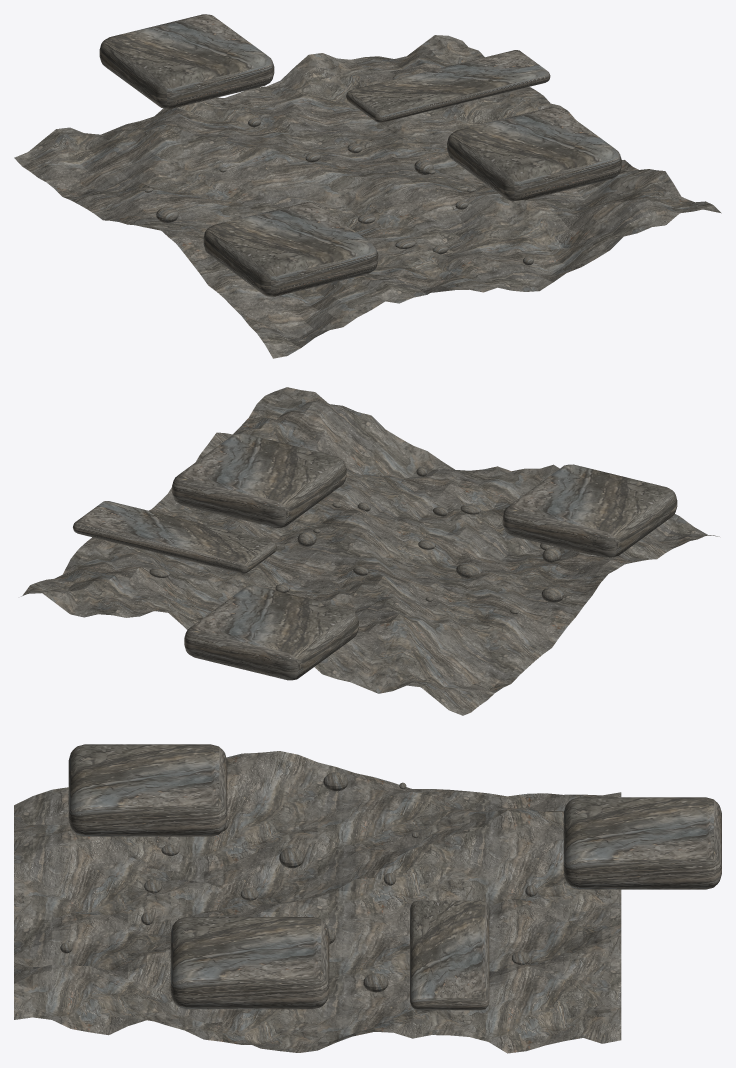
The model's file is terrain_chunk.glb.
3 renders of one model, top to bottom at view 1: azimuth 30°, elevation 25°; view 2: azimuth 150°, elevation 25°; view 3: azimuth 270°, elevation 25°, orthographic. The views are drawn at different scales.
Parts seen in each view (by area): view 1: TerrainMass, TerrainBlob2, TerrainBlob1, TerrainBlob0, TerrainScar; view 2: TerrainMass, TerrainBlob2, TerrainBlob0, TerrainBlob1, TerrainScar; view 3: TerrainMass, TerrainBlob1, TerrainBlob0, TerrainBlob2, TerrainScar.
Boxes of the visible parts, box(x1,y1,x2,y2) form: TerrainMass: box(14, 35, 721, 358); TerrainBlob2: box(99, 14, 274, 108); TerrainBlob1: box(203, 202, 378, 296); TerrainBlob0: box(447, 107, 621, 201); TerrainScar: box(346, 50, 550, 122); TerrainMass: box(21, 387, 719, 715); TerrainBlob2: box(184, 585, 358, 680); TerrainBlob0: box(172, 433, 346, 527); TerrainBlob1: box(502, 464, 677, 557); TerrainScar: box(73, 501, 277, 573); TerrainMass: box(14, 751, 621, 1053); TerrainBlob1: box(68, 744, 227, 836); TerrainBlob0: box(170, 917, 329, 1009); TerrainBlob2: box(563, 797, 721, 889); TerrainScar: box(410, 900, 489, 1010).
Bounding box in the file's own units: 46 × 7.16 × 53.62.
Materials: 1 (1 with a texture image).
